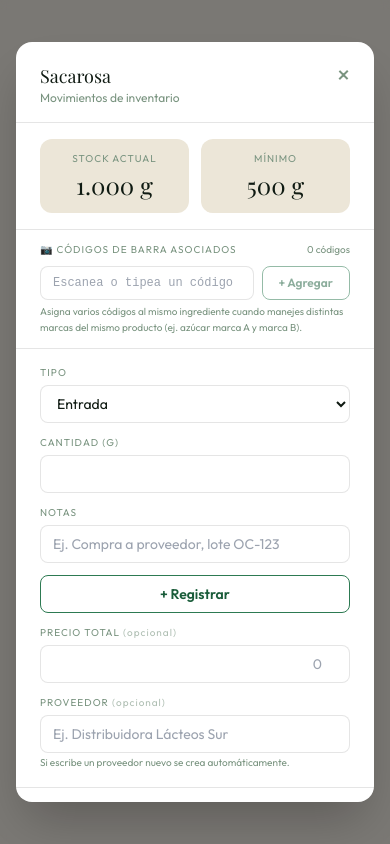
it: InventoryModal — barcode chips › adds and removes barcodes
Type "7501234567890" into the field with placeholder "Escanea o tipea un código nuevo" at [147, 283], box [40,266,254,300]
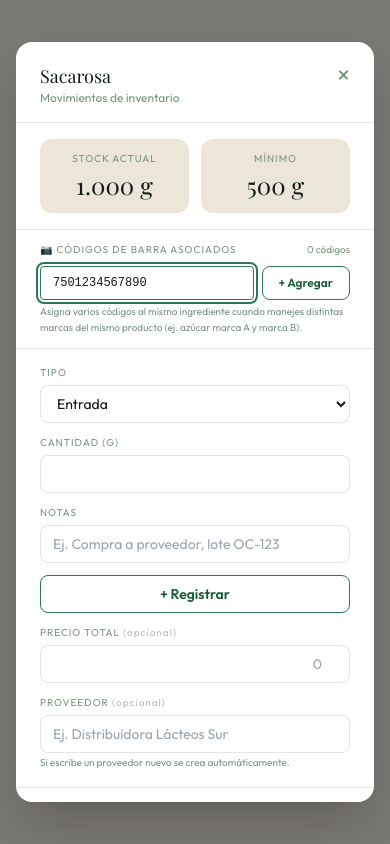
Click the button "+ Agregar" at [306, 283], box [262,266,350,300]
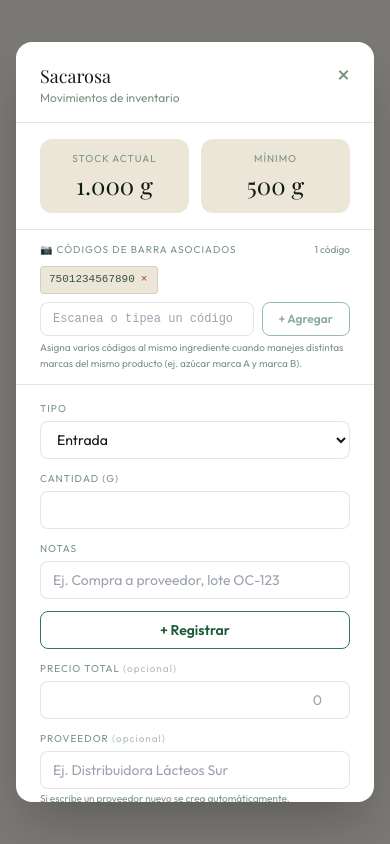
Expected: the text "7501234567890" is shown, [49,273,135,285]
